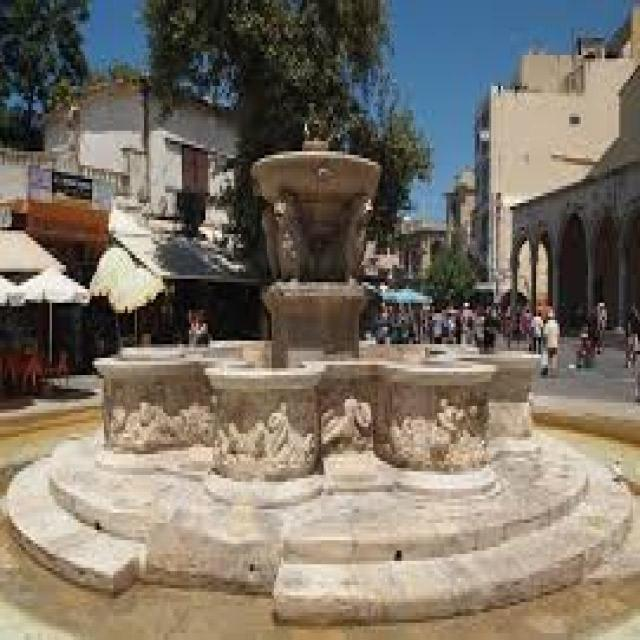Liontaria: (100, 132, 543, 507)
